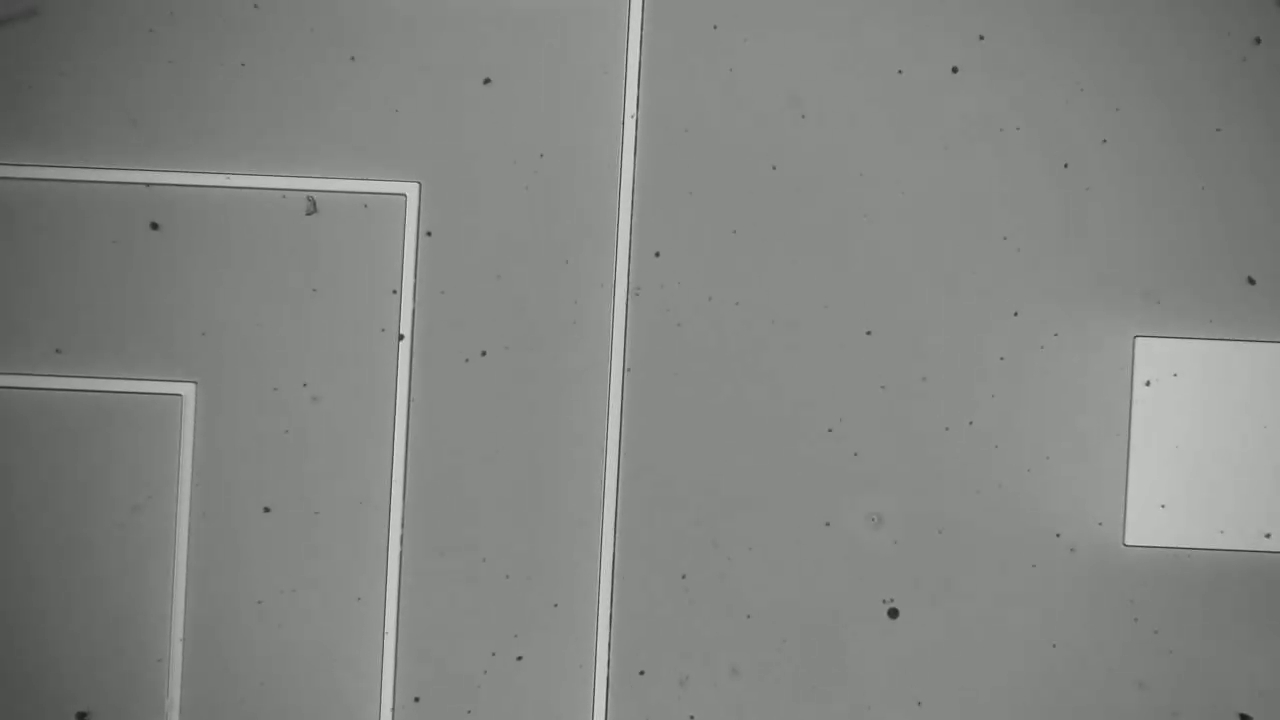stains_enbedded: (394, 321, 415, 345)
